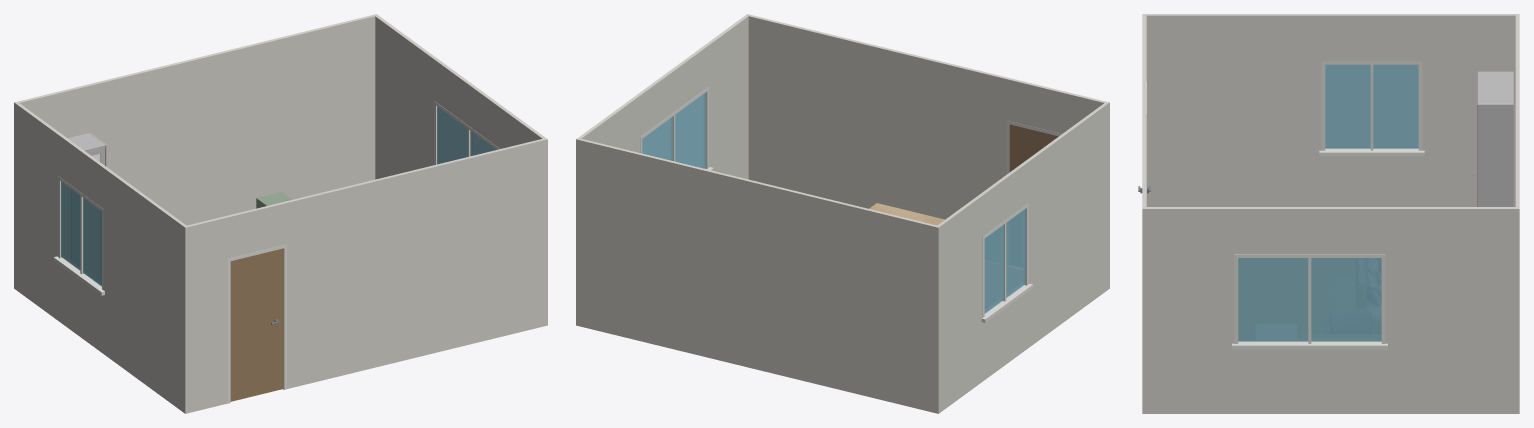
File: scenesmith.glb
The picture shows the model from 3 angles, left to right: view 1: azimuth 30°, elevation 25°; view 2: azimuth 150°, elevation 25°; view 3: azimuth 270°, elevation 25°; orthographic projection. The views are drawn at different scales.
Parts seen in each view (by area): view 1: scene_022_bedroom_south_wall, scene_022_bedroom_north_wall, scene_022_bedroom_west_wall, scene_022_bedroom_east_wall, scene_022_bedroom_south_wall Door 0 | wood leaf, scene_022_bedroom_west_wall Window 0 | glazing, scene_022_bedroom_east_wall Window 0 | glazing, scene_022_bedroom_west_wall Window 0 | jamb, scene_022_bedroom_south_wall Door 0 | jamb, P_210768f5bbf3169b.001, scene_022_bedroom_east_wall Window 0 | jamb; view 2: scene_022_bedroom_north_wall, scene_022_bedroom_south_wall, scene_022_bedroom_west_wall, scene_022_bedroom_east_wall, scene_022_bedroom_west_wall Window 0 | glazing, scene_022_bedroom_east_wall Window 0 | glazing, scene_022_bedroom_west_wall Window 0 | jamb, scene_022_bedroom_south_wall Door 0 | wood leaf, scene_022_bedroom_east_wall Window 0 | jamb, furniture_group; view 3: scene_022_bedroom_east_wall, scene_022_bedroom_west_wall, scene_022_bedroom_east_wall Window 0 | glazing, scene_022_bedroom_west_wall Window 0 | glazing, P_210768f5bbf3169b.001, scene_022_bedroom_east_wall Window 0 | jamb, scene_022_bedroom_west_wall Window 0 | jamb, scene_022_bedroom_south_wall, scene_022_bedroom_north_wall.
Part boxes in pixels (bbox=[...]): scene_022_bedroom_south_wall: bbox=[183, 139, 544, 413]; scene_022_bedroom_north_wall: bbox=[14, 14, 377, 289]; scene_022_bedroom_west_wall: bbox=[14, 101, 188, 413]; scene_022_bedroom_east_wall: bbox=[375, 15, 547, 325]; scene_022_bedroom_south_wall Door 0 | wood leaf: bbox=[230, 248, 283, 401]; scene_022_bedroom_west_wall Window 0 | glazing: bbox=[61, 181, 101, 286]; scene_022_bedroom_east_wall Window 0 | glazing: bbox=[437, 106, 496, 164]; scene_022_bedroom_west_wall Window 0 | jamb: bbox=[53, 176, 104, 295]; scene_022_bedroom_south_wall Door 0 | jamb: bbox=[227, 244, 286, 403]; P_210768f5bbf3169b.001: bbox=[68, 133, 106, 166]; scene_022_bedroom_east_wall Window 0 | jamb: bbox=[434, 101, 499, 165]; scene_022_bedroom_north_wall: bbox=[576, 138, 940, 413]; scene_022_bedroom_south_wall: bbox=[748, 15, 1109, 289]; scene_022_bedroom_west_wall: bbox=[935, 101, 1109, 413]; scene_022_bedroom_east_wall: bbox=[576, 14, 750, 325]; scene_022_bedroom_west_wall Window 0 | glazing: bbox=[984, 209, 1025, 313]; scene_022_bedroom_east_wall Window 0 | glazing: bbox=[642, 92, 705, 168]; scene_022_bedroom_west_wall Window 0 | jamb: bbox=[981, 203, 1033, 322]; scene_022_bedroom_south_wall Door 0 | wood leaf: bbox=[1009, 124, 1058, 172]; scene_022_bedroom_east_wall Window 0 | jamb: bbox=[640, 87, 713, 170]; furniture_group: bbox=[869, 203, 944, 225]; scene_022_bedroom_east_wall: bbox=[1142, 207, 1519, 413]; scene_022_bedroom_west_wall: bbox=[1142, 14, 1519, 206]; scene_022_bedroom_east_wall Window 0 | glazing: bbox=[1238, 258, 1381, 341]; scene_022_bedroom_west_wall Window 0 | glazing: bbox=[1325, 64, 1418, 148]; P_210768f5bbf3169b.001: bbox=[1477, 71, 1513, 206]; scene_022_bedroom_east_wall Window 0 | jamb: bbox=[1232, 254, 1387, 349]; scene_022_bedroom_west_wall Window 0 | jamb: bbox=[1319, 61, 1424, 156]; scene_022_bedroom_south_wall: bbox=[1142, 15, 1146, 413]; scene_022_bedroom_north_wall: bbox=[1515, 14, 1519, 208].
Bounding box in the file's own units: 5.61 × 2.71 × 4.55.
24 materials, 7 textured.
